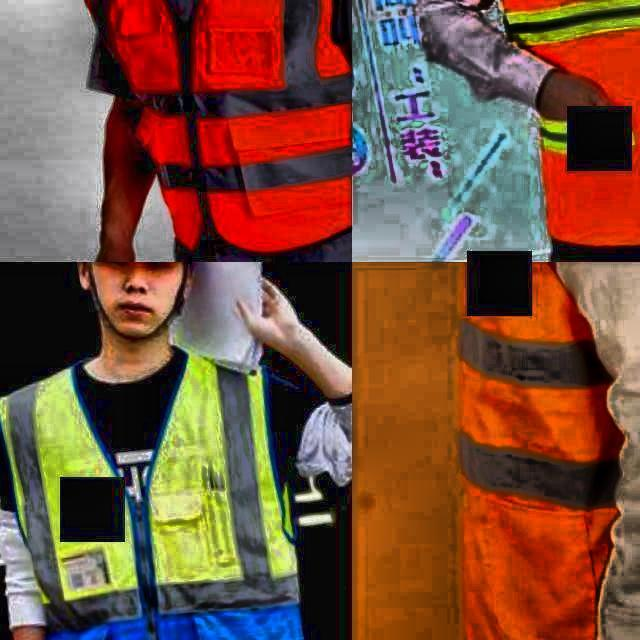safety_jacket: (358, 262, 640, 640), (0, 339, 306, 640), (91, 0, 352, 254), (463, 0, 640, 244)
